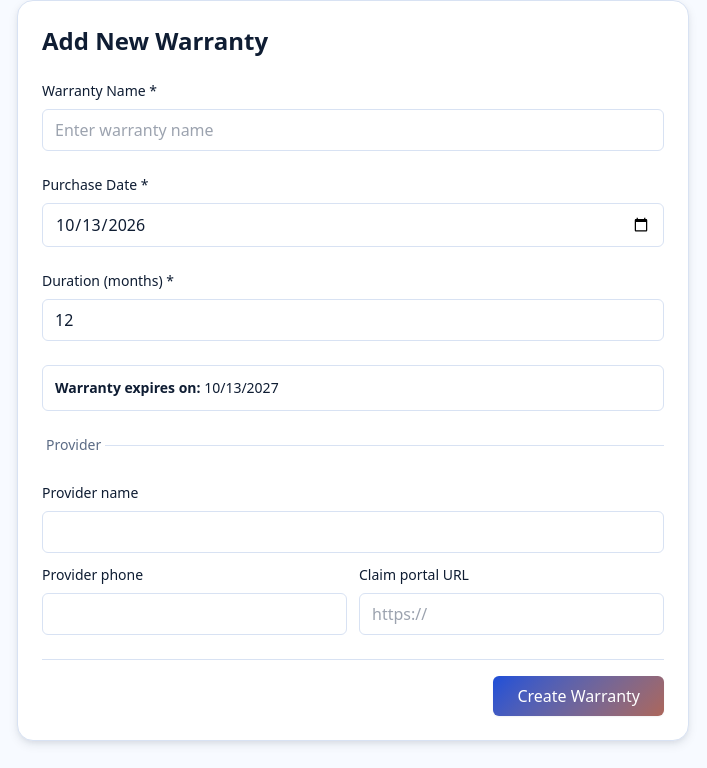
it: <WarrantyForm /> validation › requires a warranty name
Click the button "Create Warranty" at (579, 696), box [493,676,664,716]
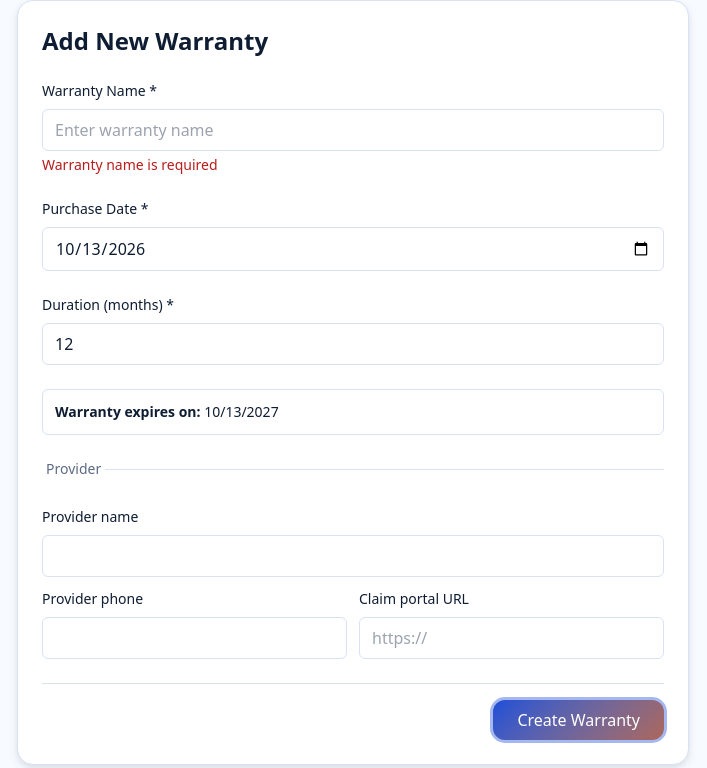
Result: the text "Warranty name is required" is shown at [42,155,218,174]
